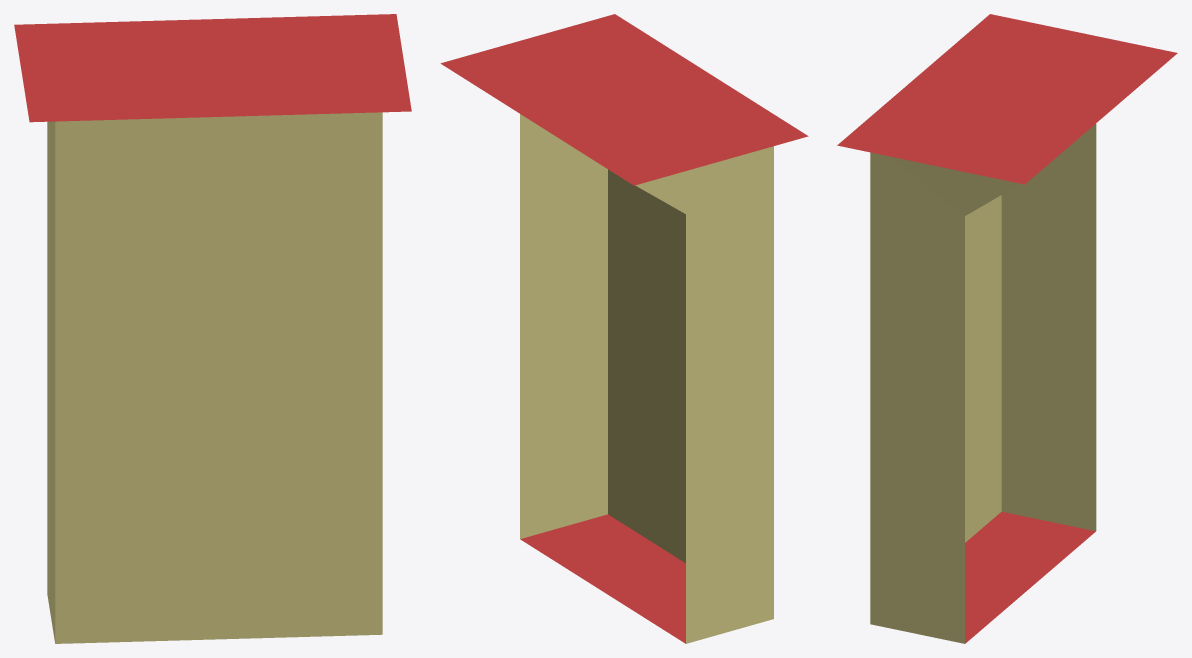
3 views of the same model, side by side, from view 1: azimuth 30°, elevation 25°; view 2: azimuth 150°, elevation 25°; view 3: azimuth 270°, elevation 25° (orthographic). The views are drawn at different scales.
Bounding box in the file's own units: 8.09 × 6.83 × 10.69.
